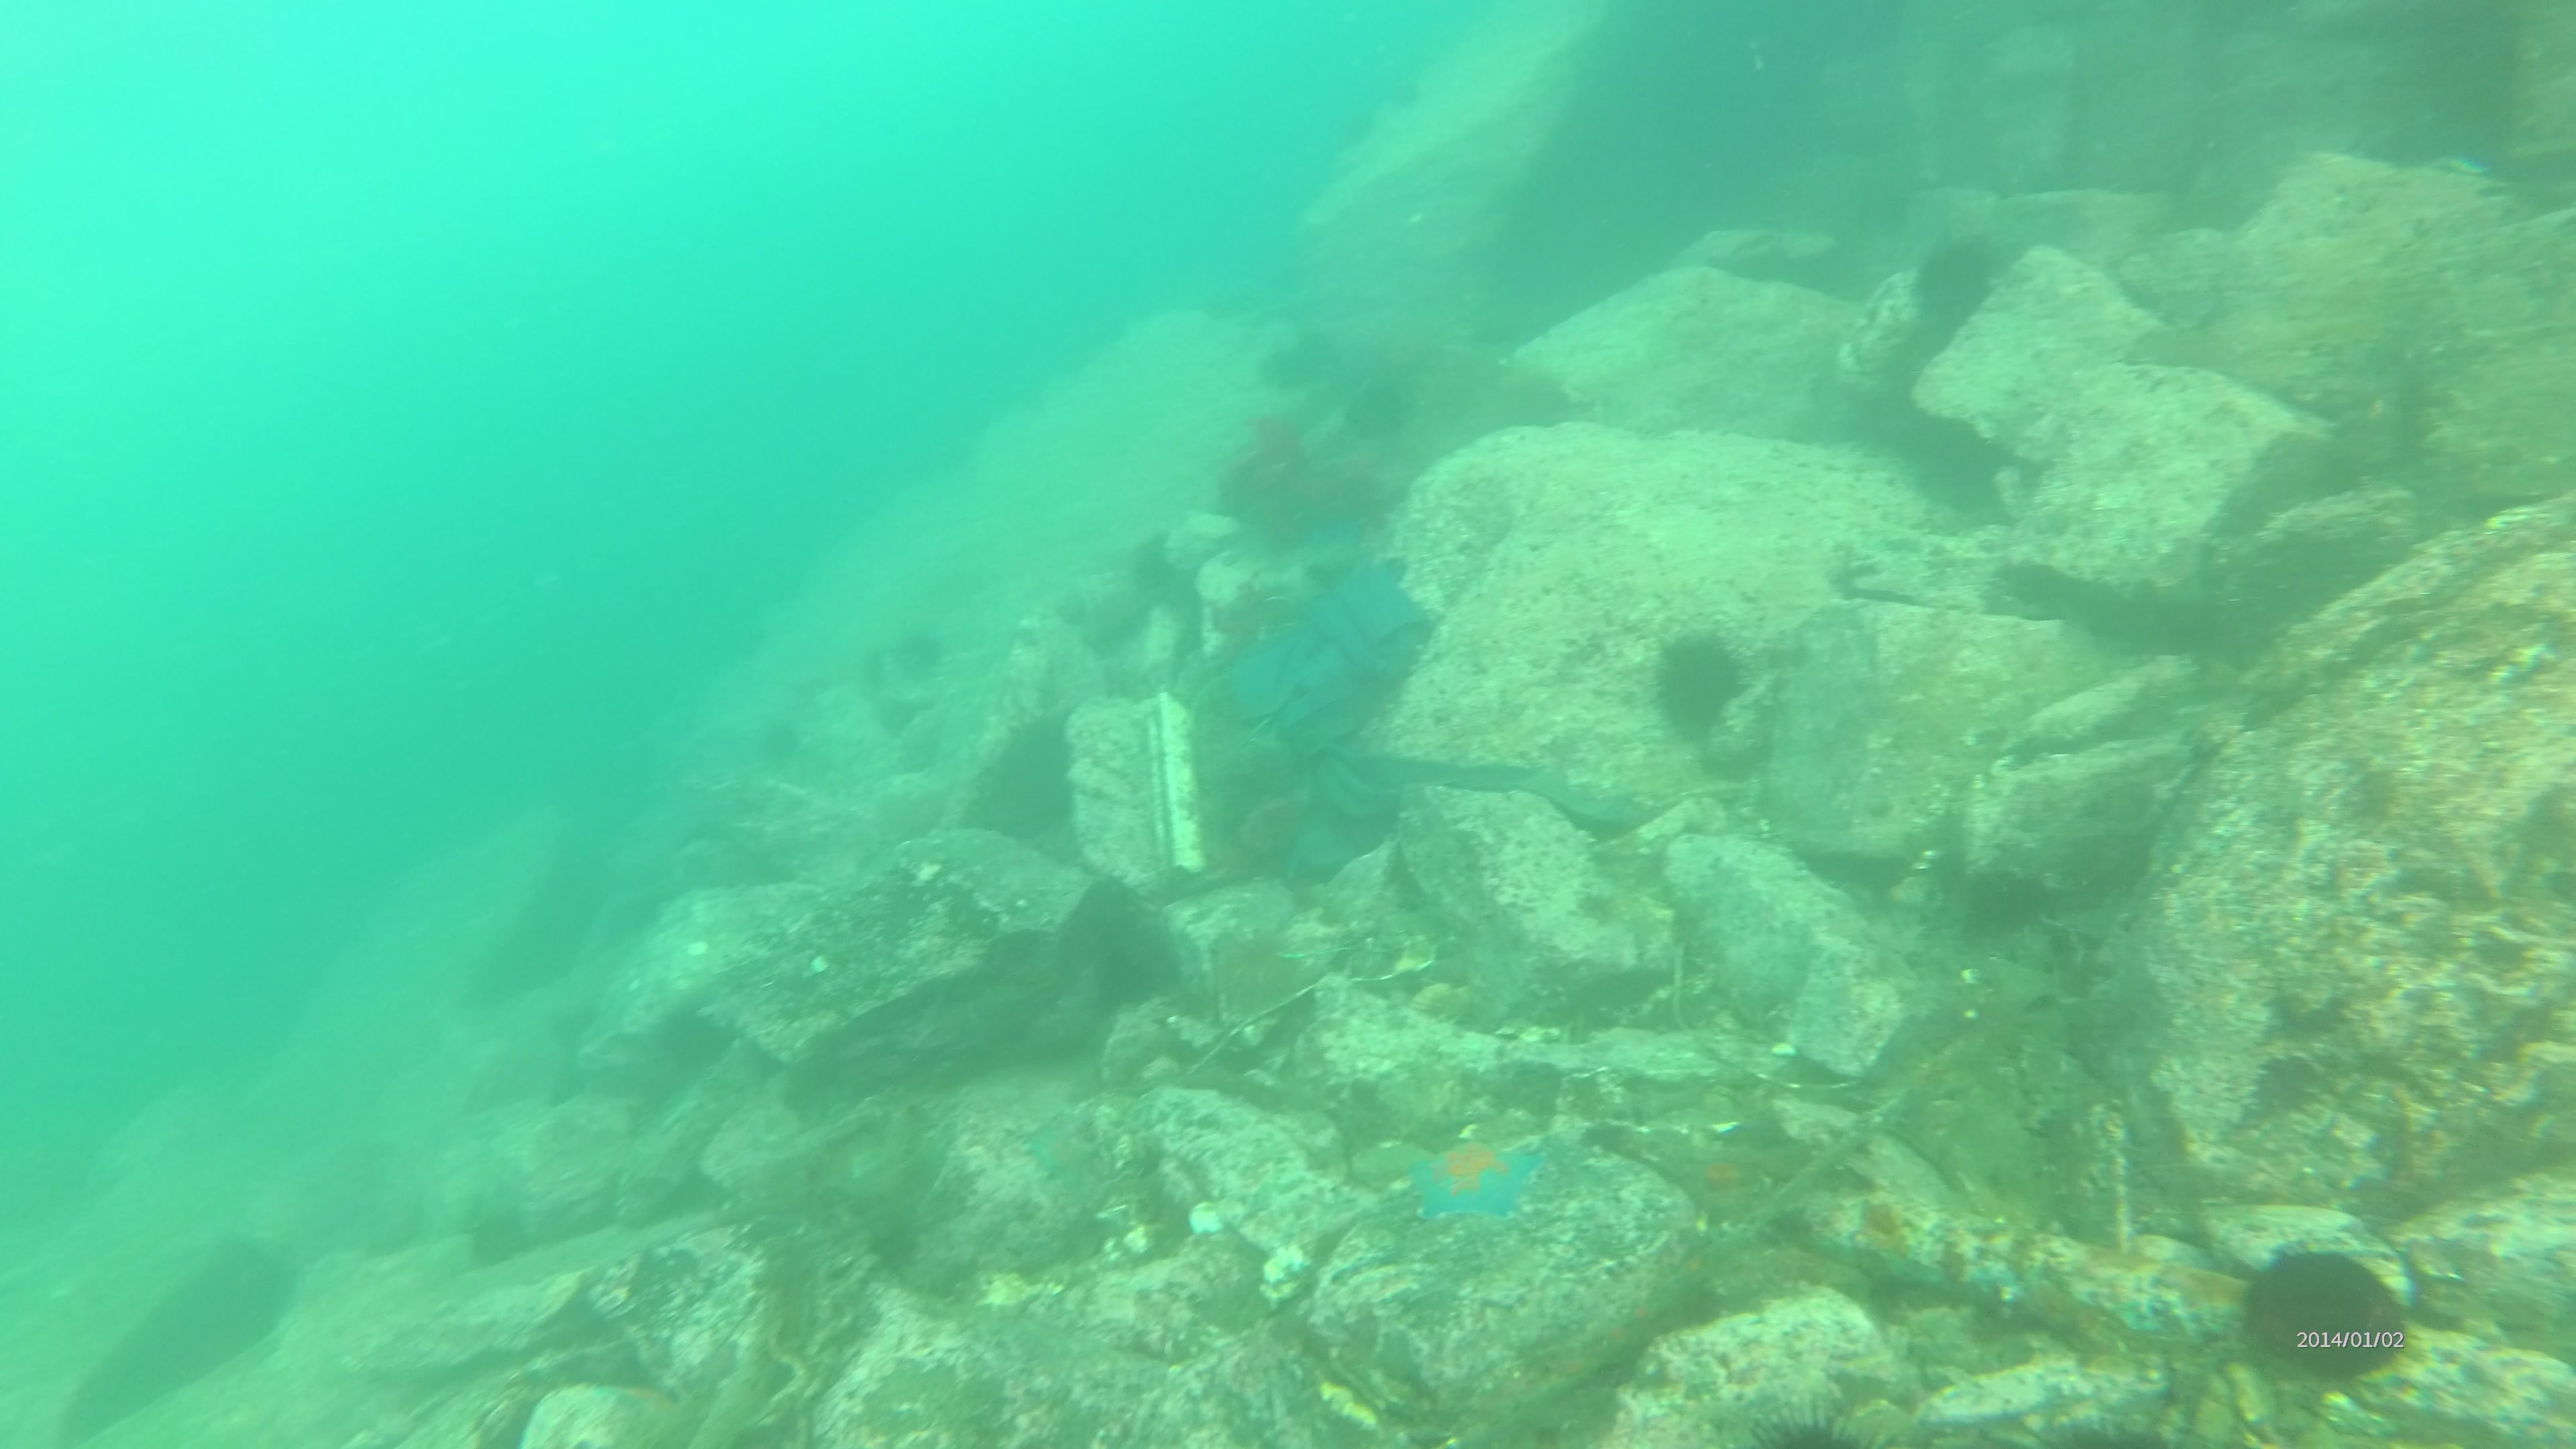echinus: (2243, 1231, 2399, 1385), (1654, 630, 1739, 732), (1916, 230, 2005, 324)
starfish: (1408, 1131, 1548, 1230)
